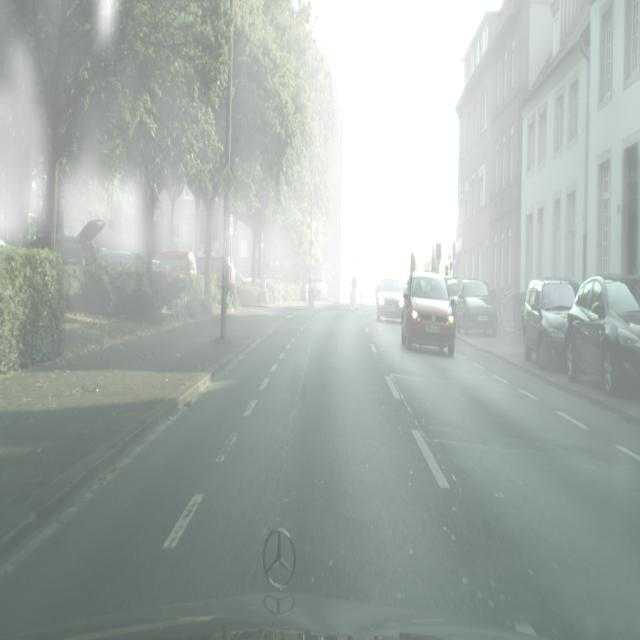person: (350, 271, 357, 310)
truck: (565, 275, 640, 396), (400, 269, 456, 356), (523, 278, 576, 369), (454, 278, 498, 336), (375, 275, 404, 322), (152, 251, 198, 276), (96, 248, 140, 269), (445, 278, 462, 319)
